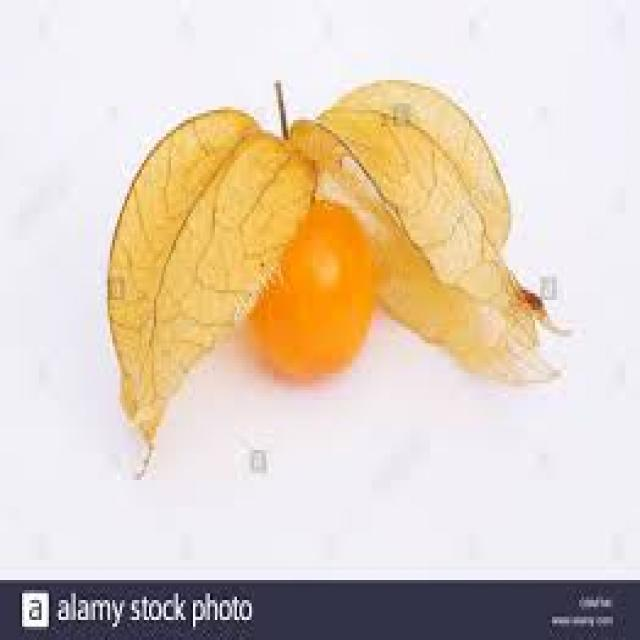organic waste: (103, 100, 566, 393), (288, 80, 562, 377), (247, 203, 369, 367)
